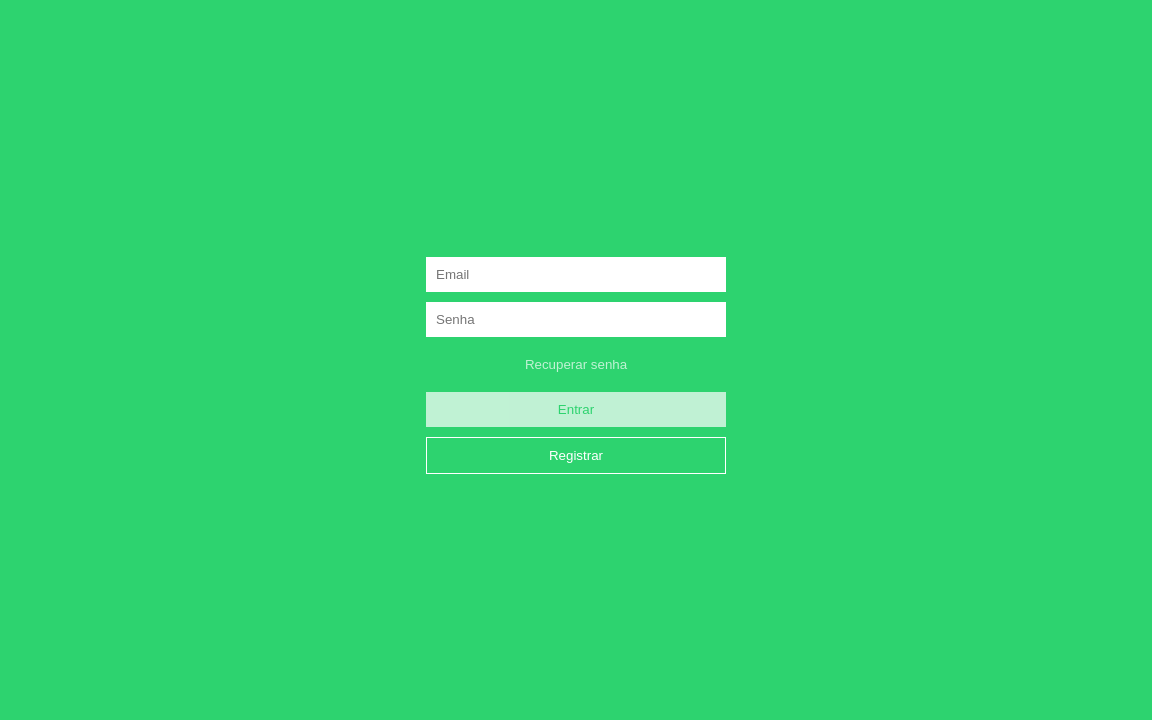
Test: Login › given user clicks on recover password button › then show loading
The image size is (1152, 720).
Type "valid@email.com" into the field with test id "email" at (576, 274), box [426, 256, 726, 292]
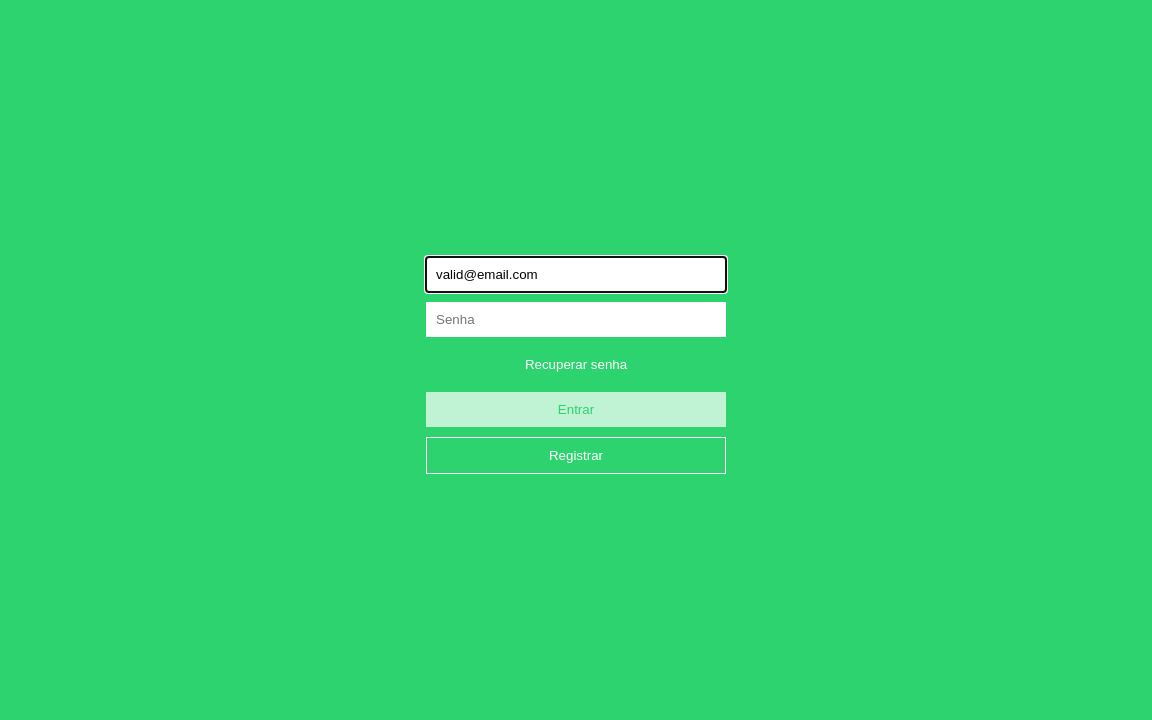
Click the button with test id "recover-password-button" at (576, 364), box [426, 346, 726, 382]
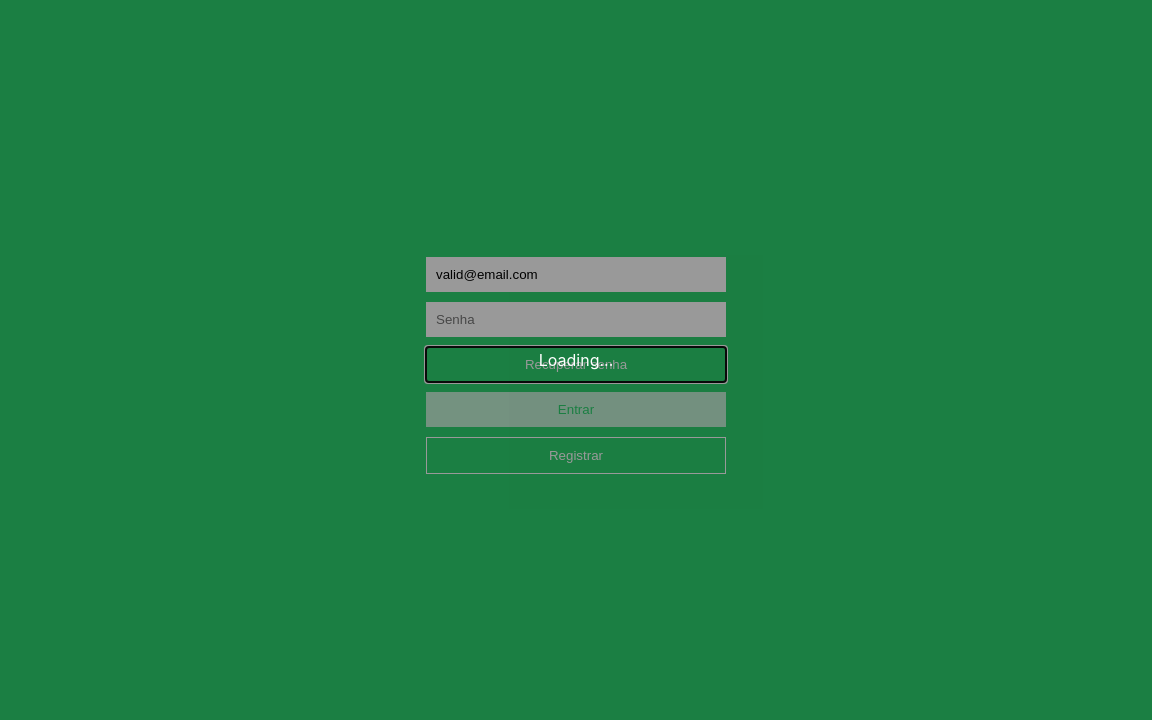
Check: the text "Loading..." is shown
